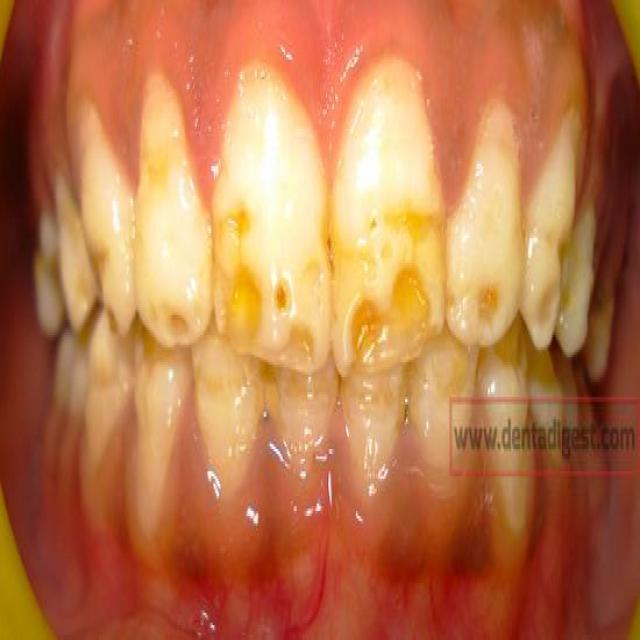LLCI_decay: (342, 375, 407, 503)
LLLI_decay: (414, 342, 472, 483)
LRCI_decay: (265, 366, 333, 475)
LRC_decay: (129, 349, 190, 542)
LRLI_decay: (192, 352, 260, 501)
ULCI_decay: (330, 64, 445, 375)
ULC_decay: (525, 119, 571, 355)
ULLI_decay: (448, 90, 526, 349)
URCI_decay: (210, 56, 330, 370)
URC_decay: (80, 110, 136, 338)
URLI_decay: (131, 74, 211, 345)
